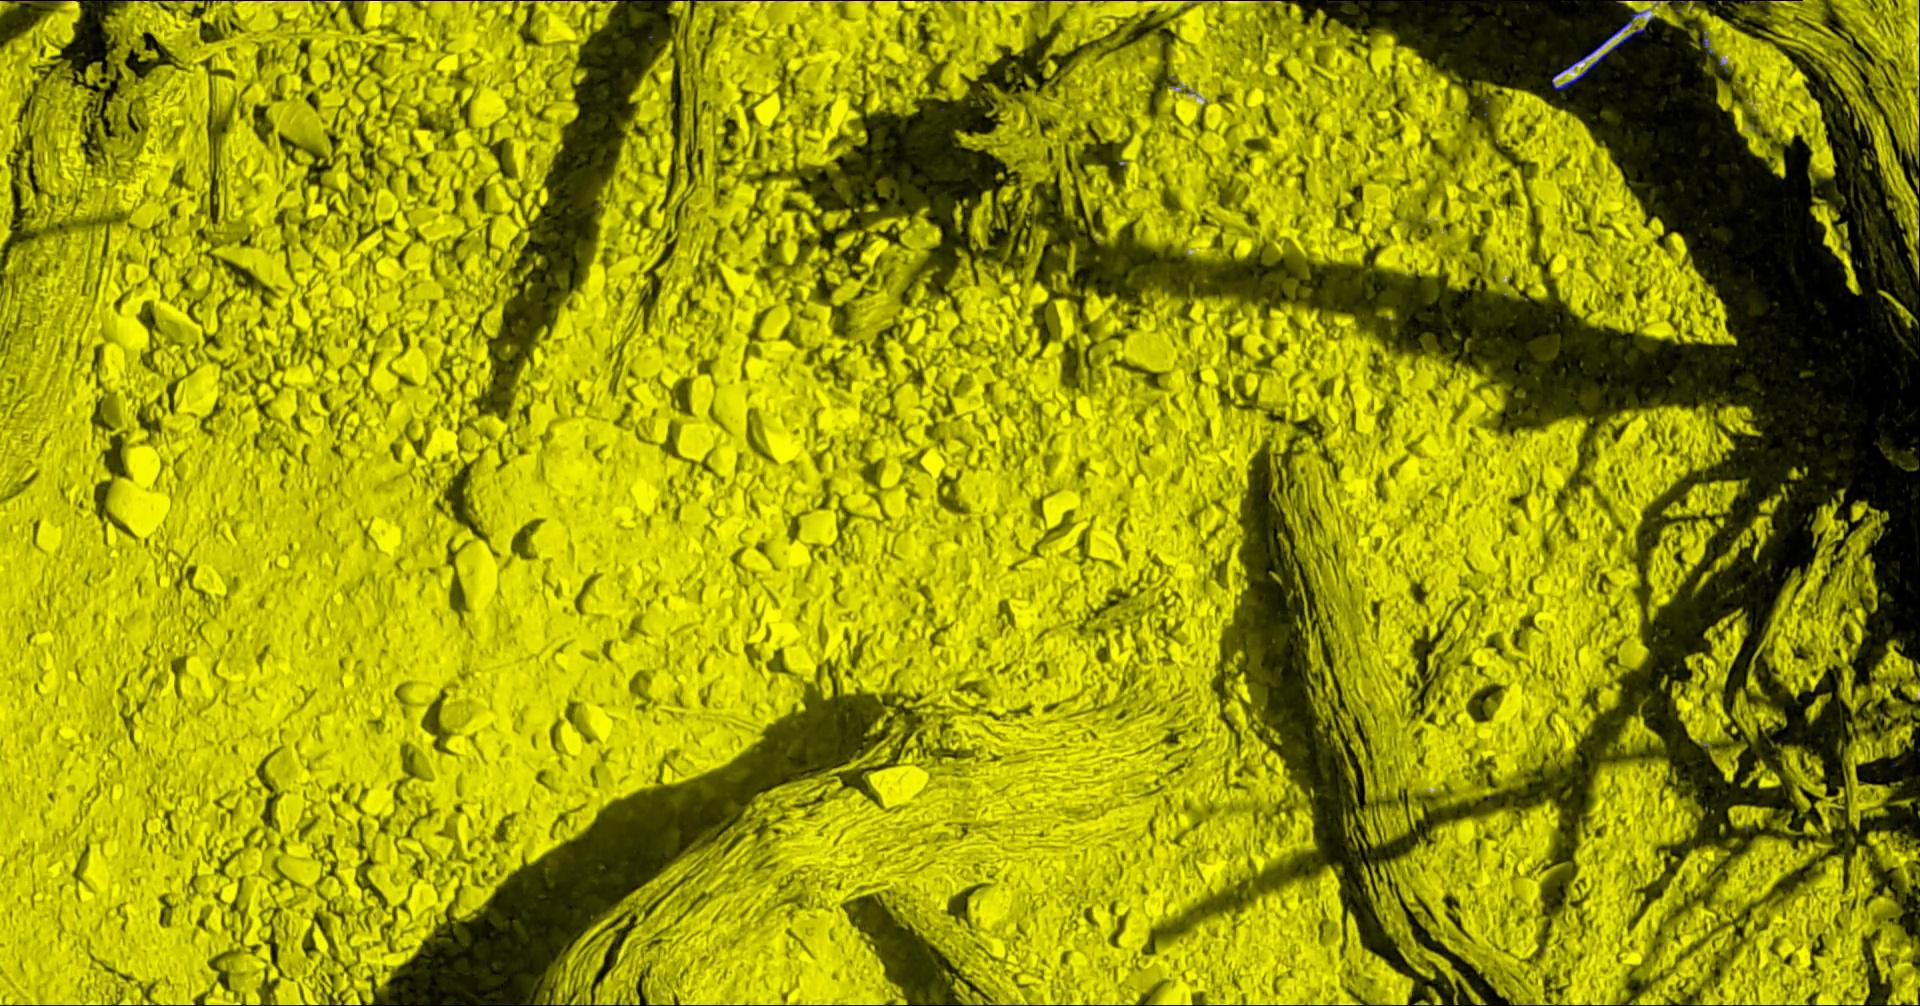ant: (1552, 15, 1657, 90)
